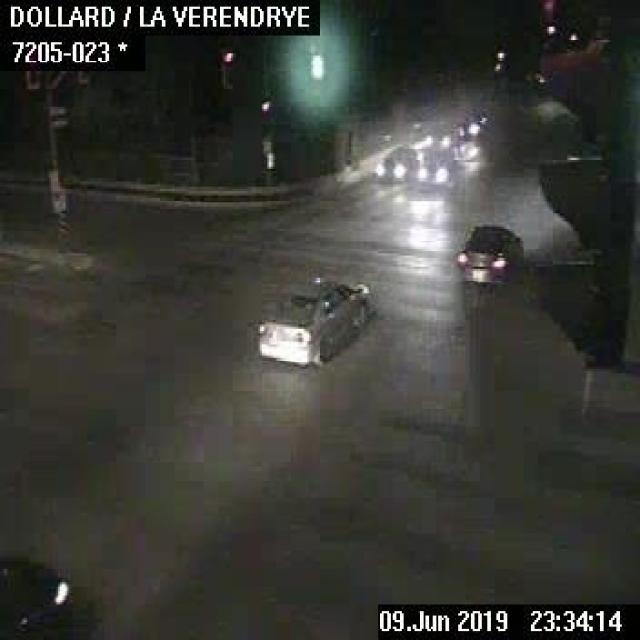vehicle: (253, 276, 376, 366), (0, 549, 71, 638), (451, 222, 525, 282), (371, 145, 419, 185), (415, 155, 452, 188), (452, 115, 485, 142), (420, 125, 454, 150)
